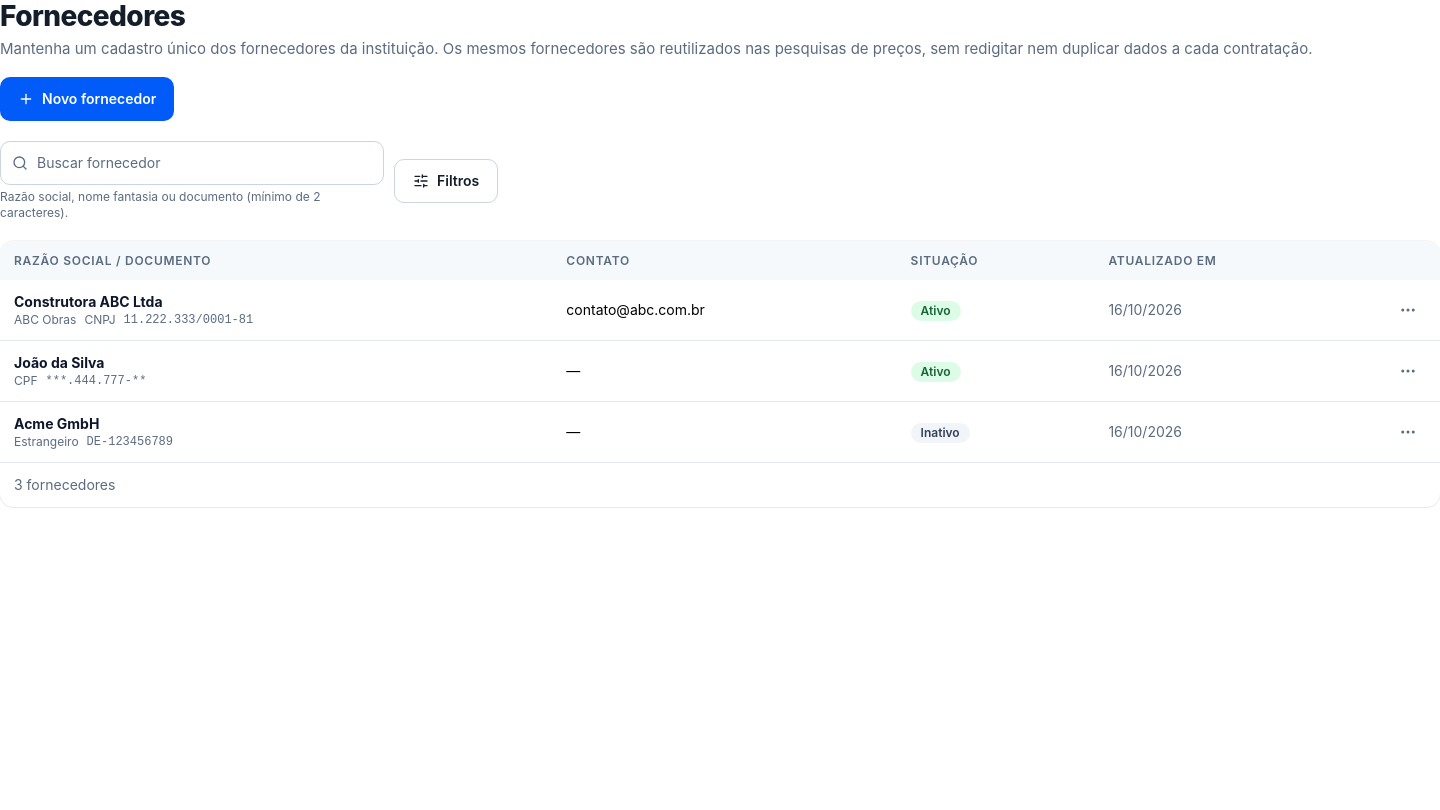
Test case: [Sucesso] SCR-107 · lista de fornecedores › excluir (FA-03): confirma no diálogo e envia DELETE com If-Match
The width and height of the screenshot is (1440, 810).
Click the button named "Ações de João da Silva" at (1408, 371), box [1390,353,1426,389]
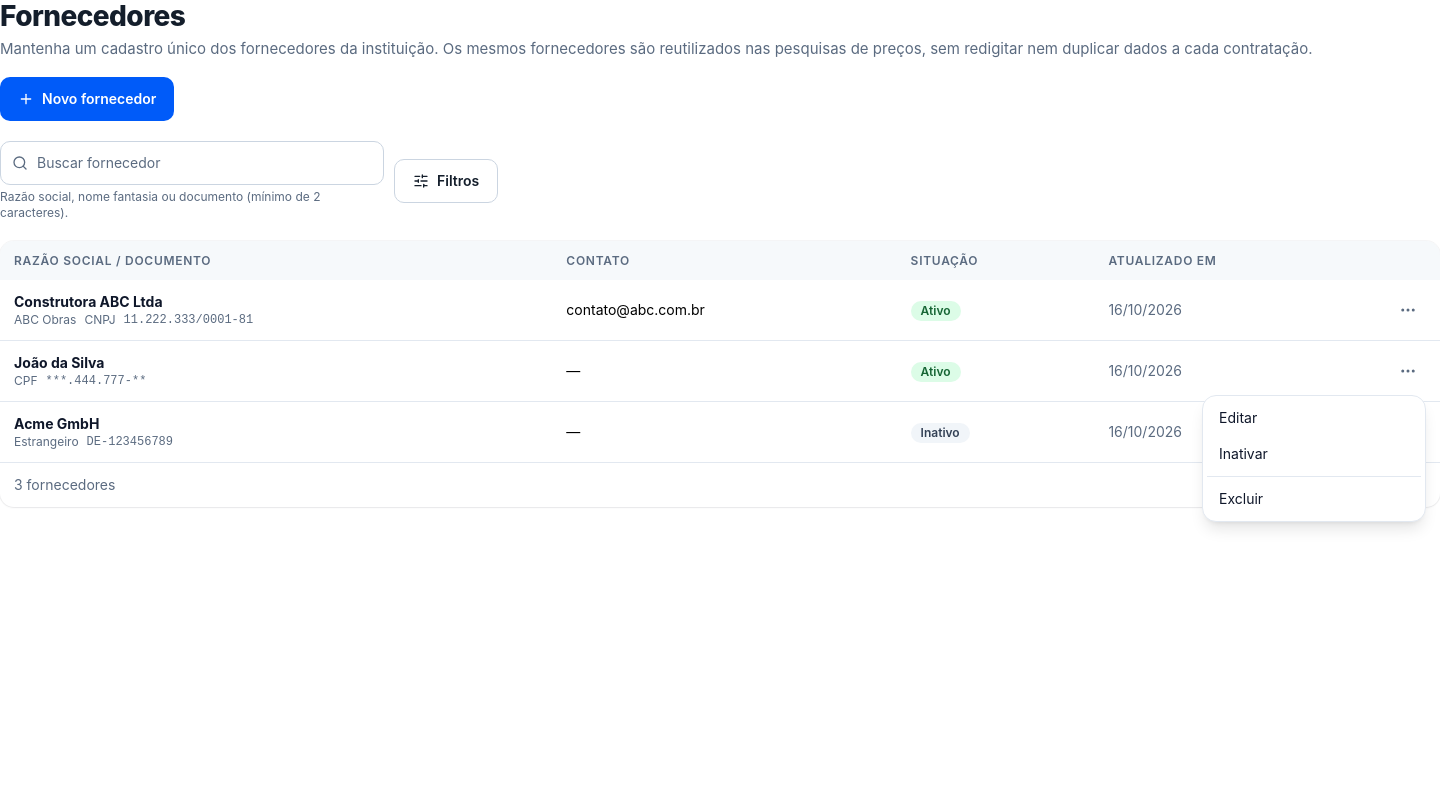
Click the menu item "Excluir" at (1241, 498), box [1219,490,1263,507]
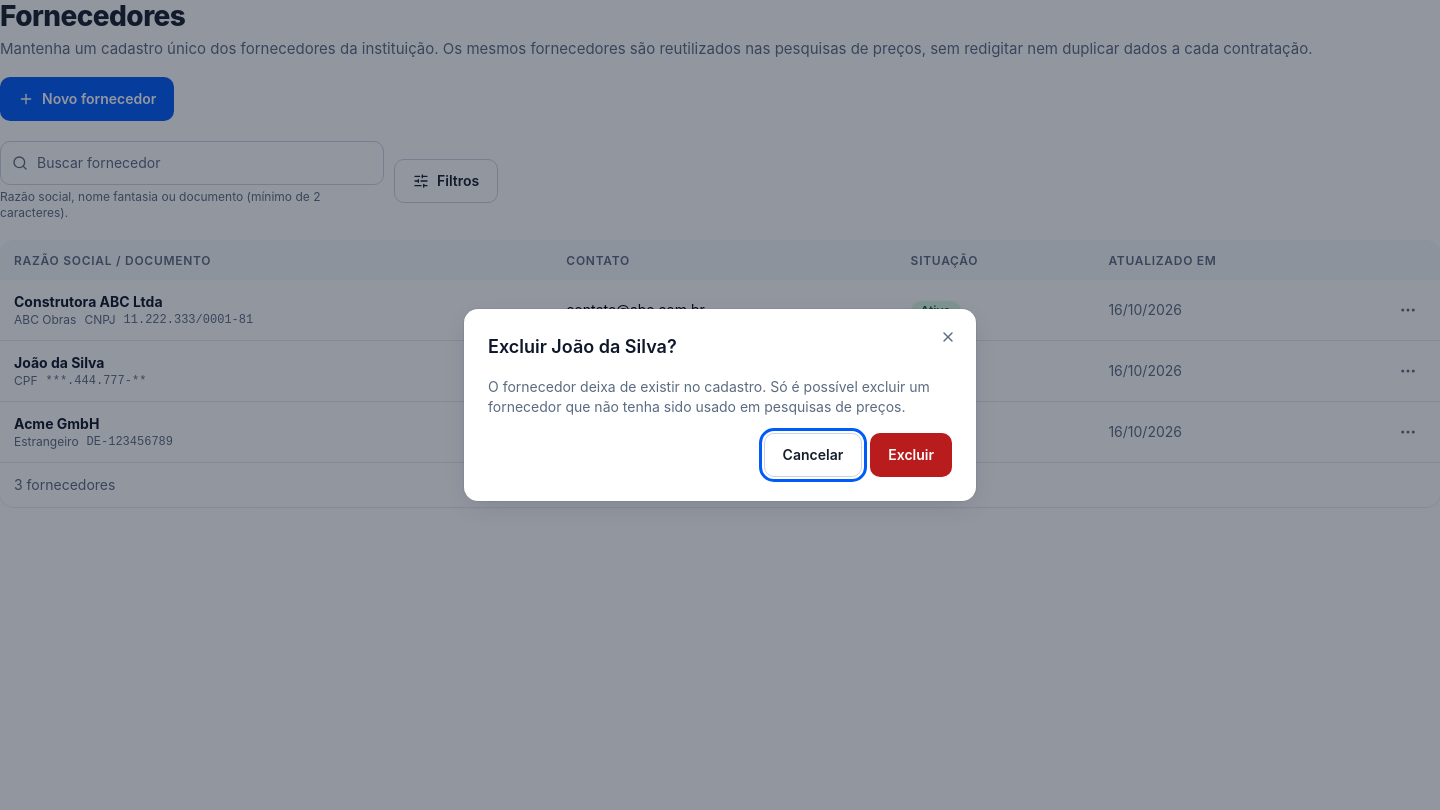
Click the button "Excluir" at (911, 455), box [870,433,952,477]
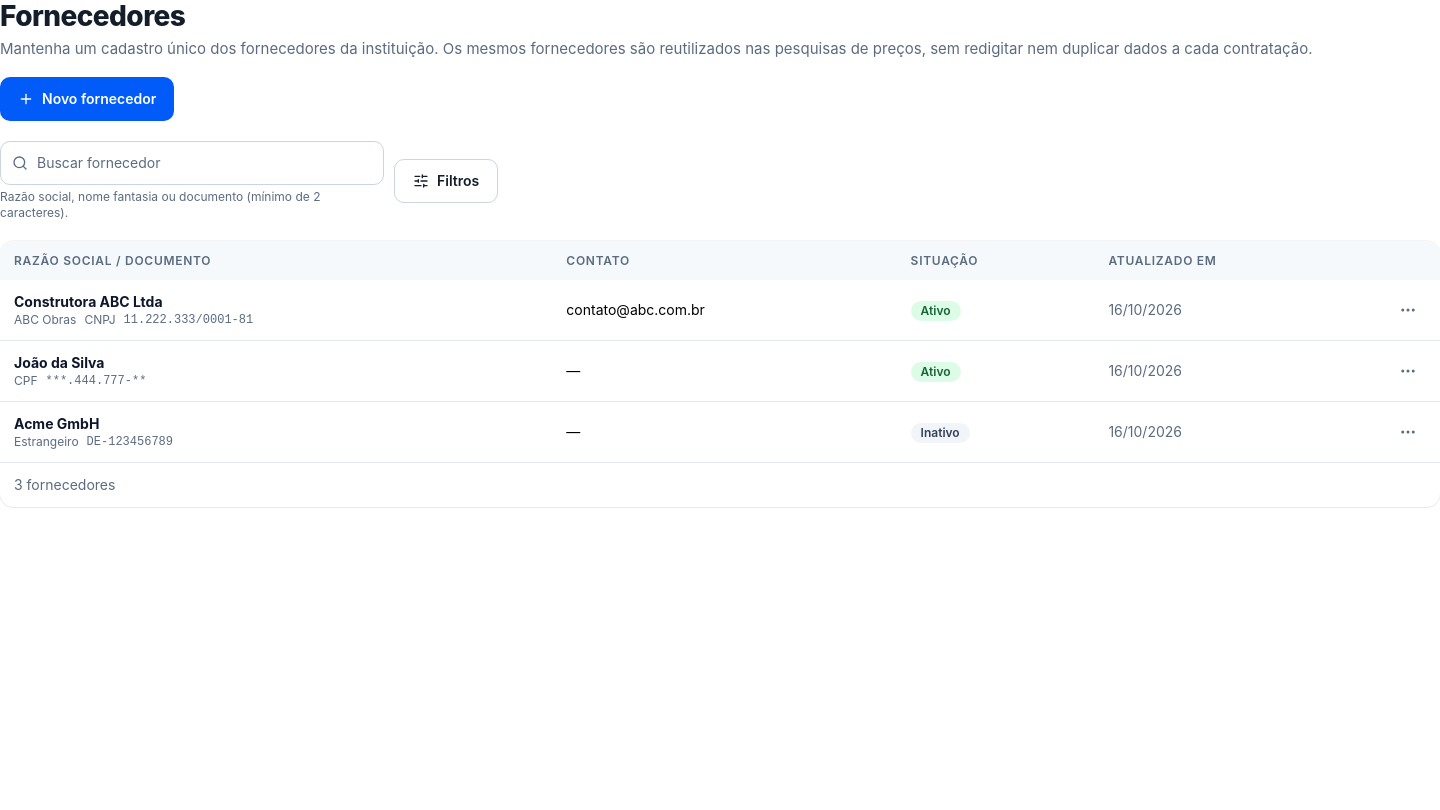
Result: the dialog is gone
